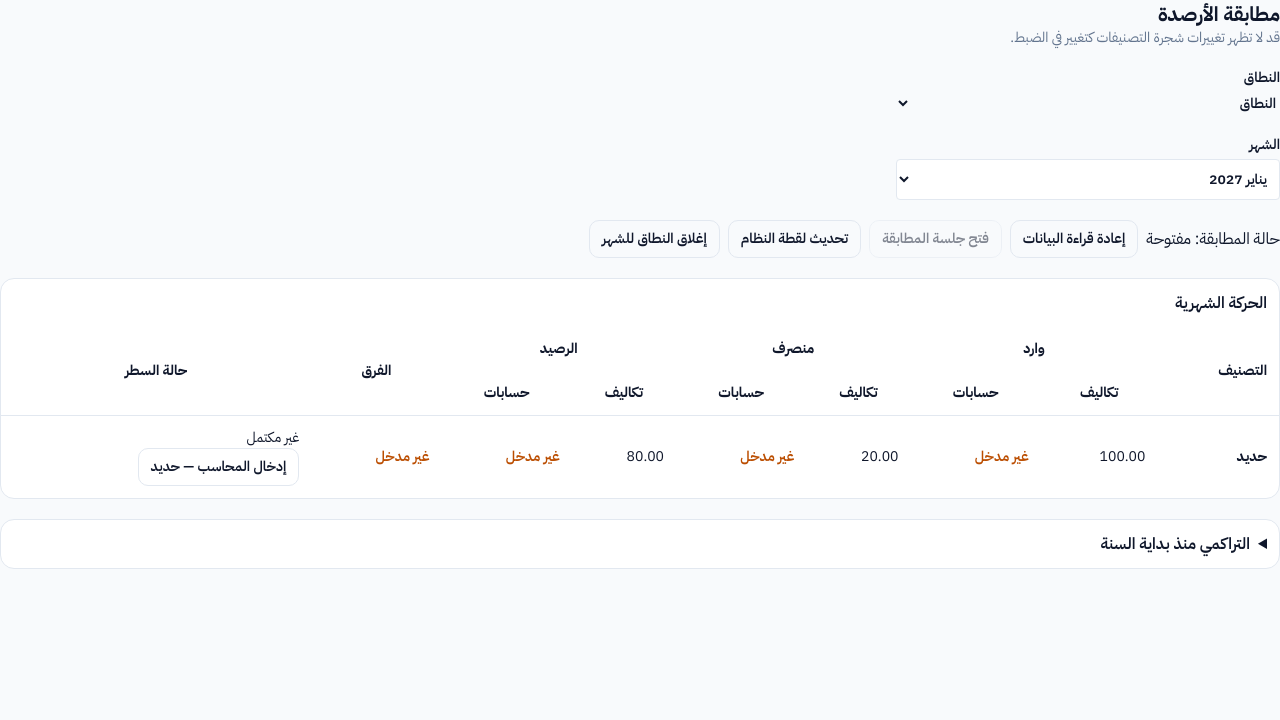
Test: v3 reconciliation › does not create a blocking draft just by opening and closing the editor
Click the button "إدخال المحاسب — حديد": (218, 467) [138,448,299,486]
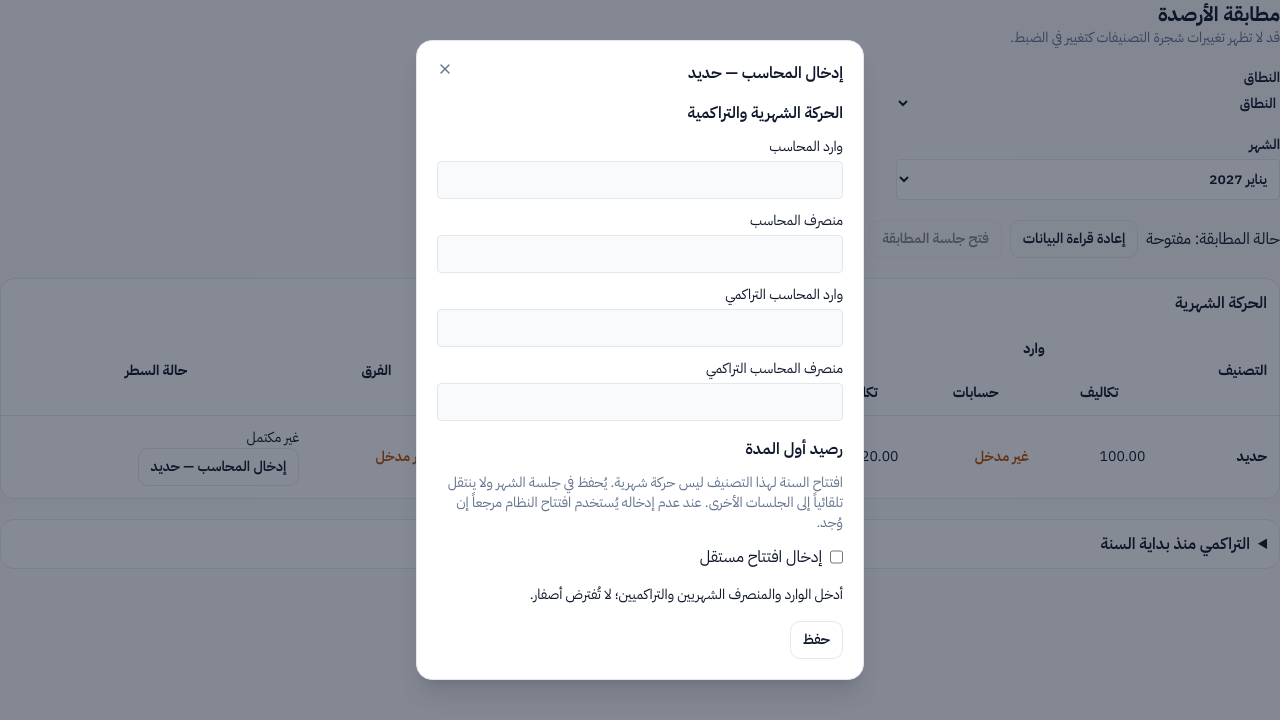
Click the button named "إلغاء": (445, 69) [437,61,453,77]
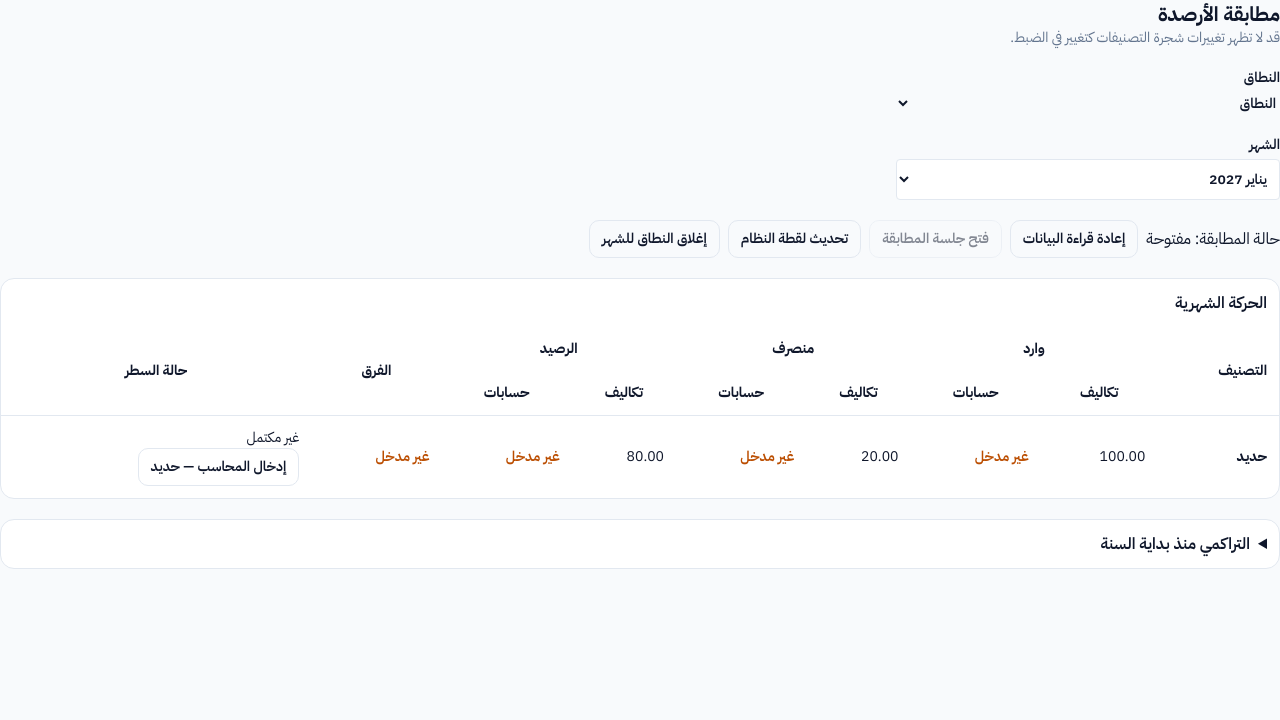
Check: the button "إغلاق النطاق للشهر" is enabled, box [589,220,720,258]
